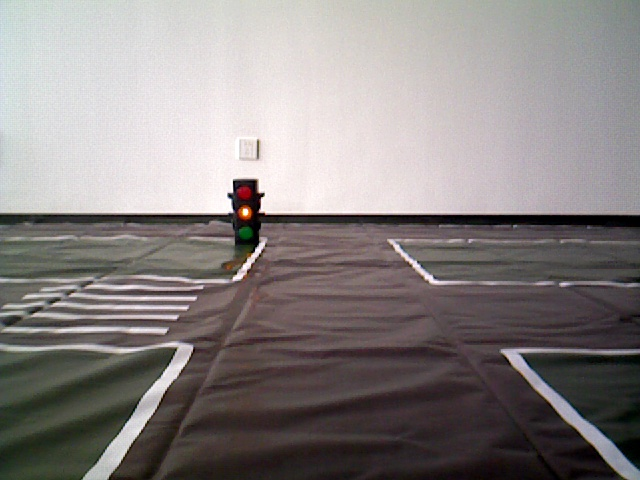yellow: (231, 181, 259, 243)
